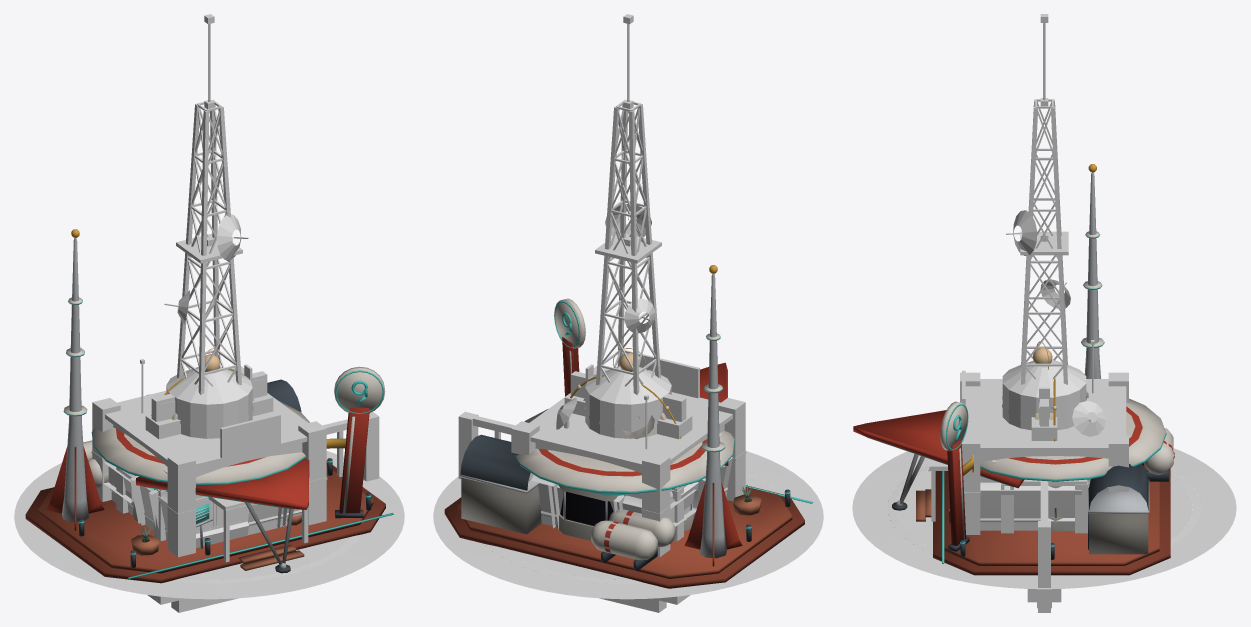
Rendered from meridian.glb.
The picture shows the model from 3 angles, left to right: view 1: azimuth 30°, elevation 25°; view 2: azimuth 150°, elevation 25°; view 3: azimuth 270°, elevation 25°; orthographic projection.
Visible parts, largest first — view 1: m_waystation, m_office, m_pad, m_mast, m_condenser, m_hab, m_ringgate, m_billboard; view 2: m_waystation, m_office, m_pad, m_mast, m_condenser, m_ringgate, m_billboard, m_hab, m_gate; view 3: m_waystation, m_pad, m_office, m_mast, m_condenser, m_hab, m_ringgate.
Part boxes in pixels (x1,y1,x2,y2): m_waystation: (25,229,393,583); m_office: (91,359,327,562); m_pad: (14,451,404,599); m_mast: (164,14,248,394); m_condenser: (166,364,379,515); m_hab: (116,467,165,541); m_ringgate: (144,393,274,604); m_billboard: (151,371,267,421); m_waystation: (444,265,812,588); m_office: (511,354,746,557); m_pad: (433,451,823,599); m_mast: (595,14,661,394); m_condenser: (458,364,671,478); m_ringgate: (564,393,693,604); m_billboard: (570,371,686,421); m_hab: (671,478,705,541); m_gate: (570,348,681,438); m_waystation: (853,164,1174,575); m_pad: (852,448,1236,589); m_office: (928,340,1128,534); m_mast: (1006,14,1070,384); m_condenser: (1002,359,1086,612); m_hab: (1001,479,1087,533); m_ringgate: (1027,417,1061,602).
Size of the model in its own units: 20.7 by 34.25 by 20.7.
